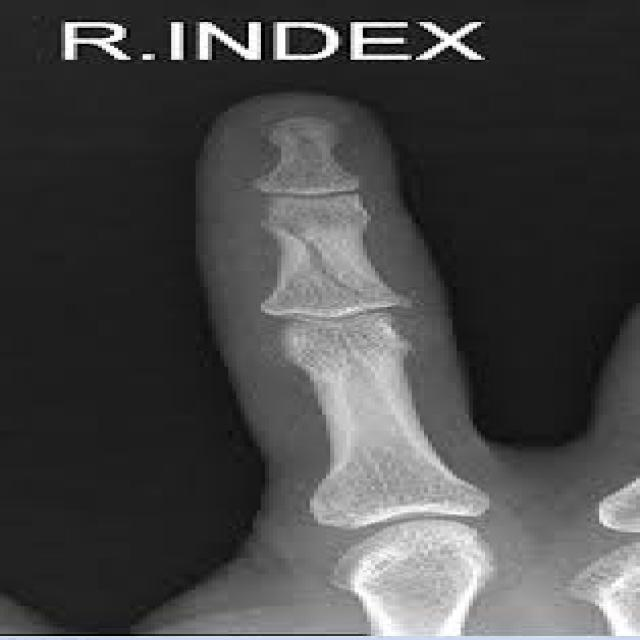bone: (222, 200, 456, 302)
